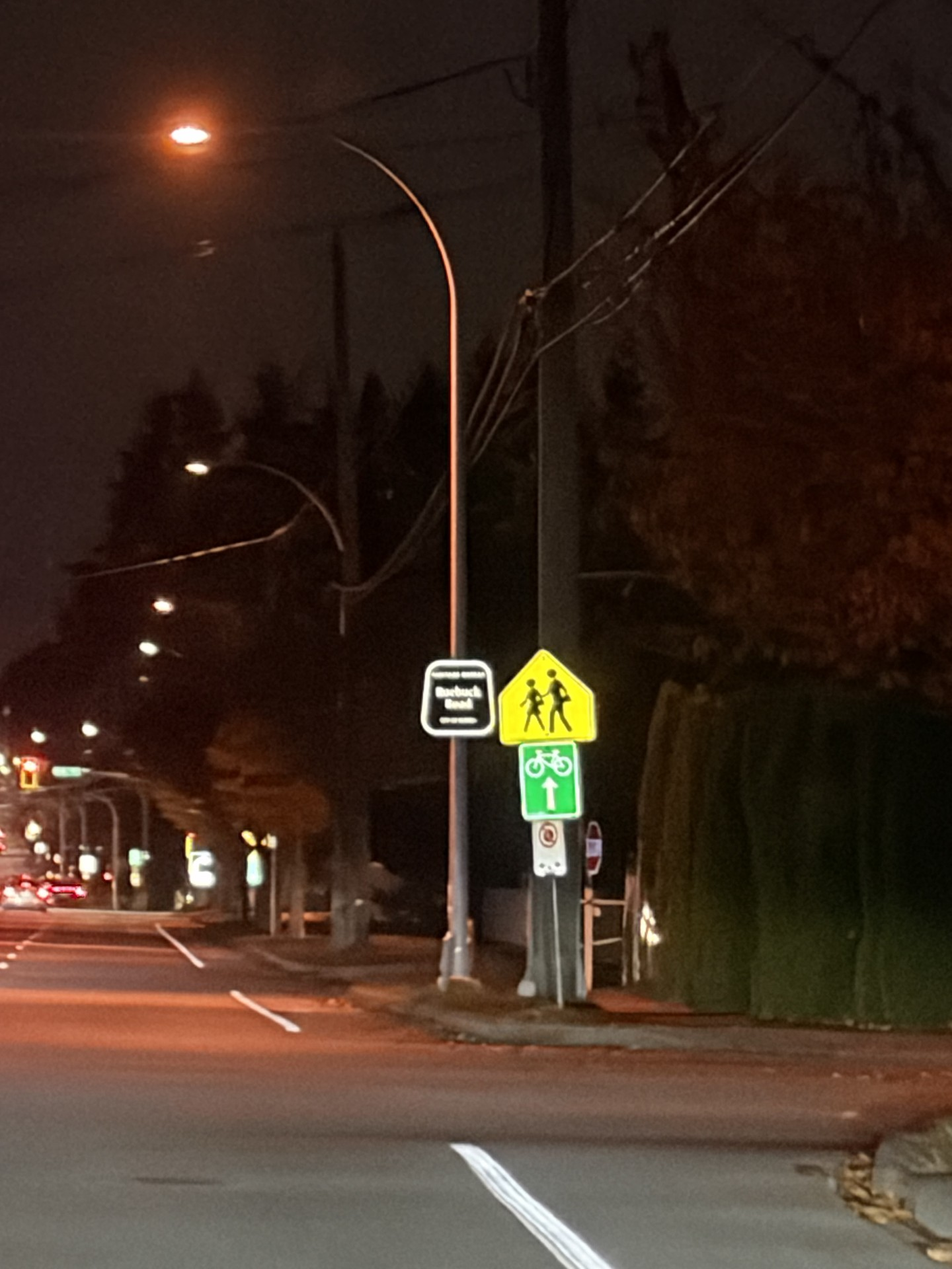school_zone: (466, 606, 626, 778)
